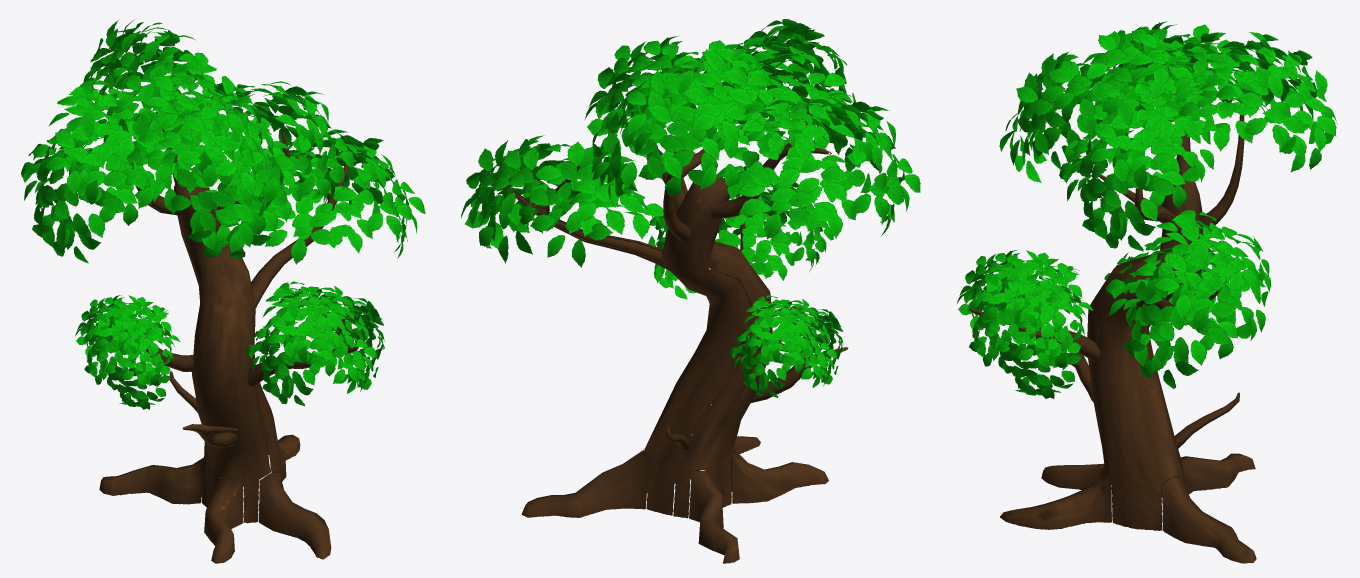
The model's file is Arbol_02.fbx.
3 renders of one model, left to right at view 1: azimuth 30°, elevation 25°; view 2: azimuth 150°, elevation 25°; view 3: azimuth 270°, elevation 25°, orthographic. The views are drawn at different scales.
Visible parts, largest first — view 1: Arbol_02; view 2: Arbol_02; view 3: Arbol_02.
Boxes of the visible parts, box(x1,y1,x2,y2) form: Arbol_02: box(21, 19, 425, 563); Arbol_02: box(461, 19, 920, 563); Arbol_02: box(957, 21, 1336, 563).
Size of the model in its own units: 204 by 223 by 173.
Materials: 1 (1 with a texture image).
